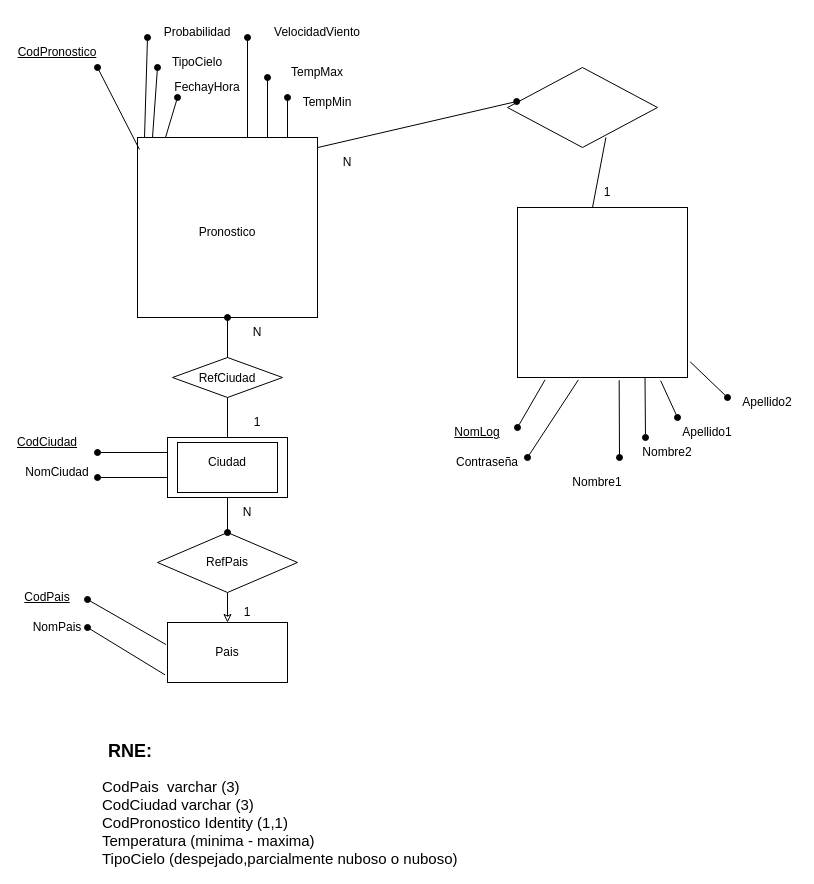
This 814x884 diagram has some shape labels left out. Each missing label, with the centre of its shape:
"Escriben" goes at point 582,107.
"Usuario" goes at point 602,292.
